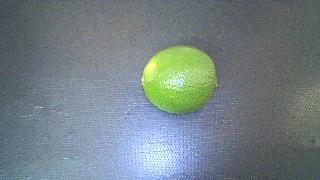EXPORTACION: (141, 45, 218, 114)
